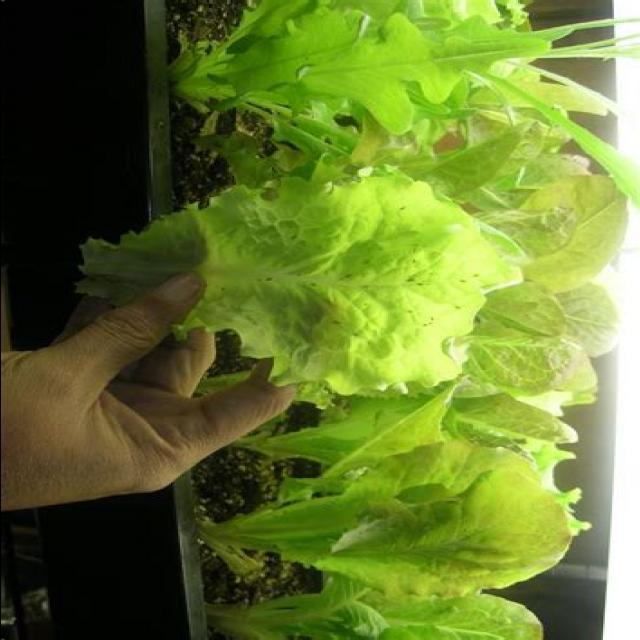healthy: (200, 180, 502, 385), (187, 10, 597, 156), (210, 468, 567, 597)
